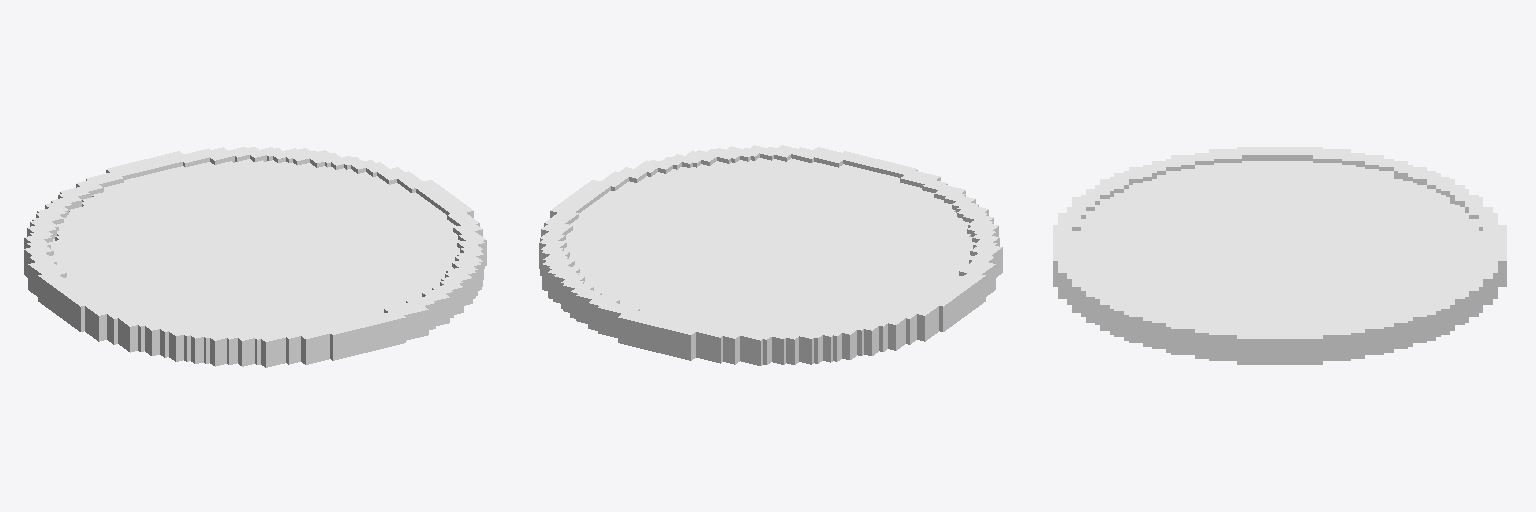
Rendered from PlatoQuemado.obj.
3 views of the same model, side by side, from view 1: azimuth 30°, elevation 25°; view 2: azimuth 150°, elevation 25°; view 3: azimuth 270°, elevation 25° (orthographic).
Parts seen in each view (by area): view 1: object 1; view 2: object 1; view 3: object 1.
Part boxes in pixels (x1,y1,x2,y2): object 1: (24,147,486,367); object 1: (539,145,1002,365); object 1: (1053,147,1506,364).
Size of the model in its own units: 9.6 by 0.6 by 9.6.